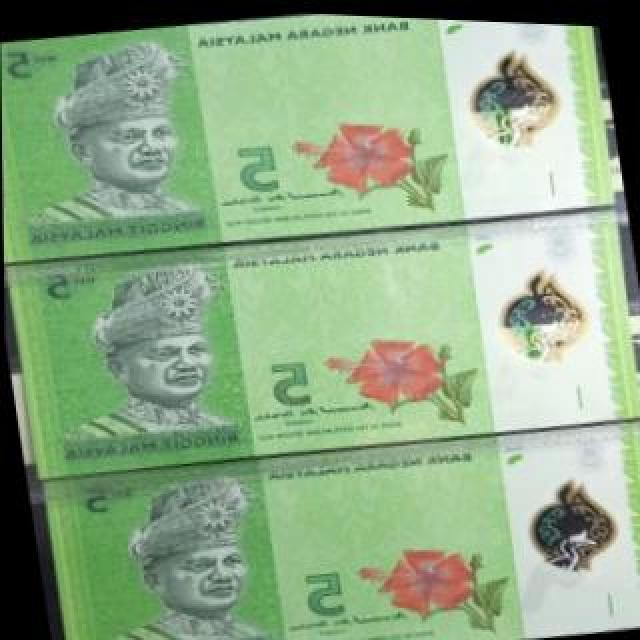5 Ringgit: (8, 184, 640, 502), (0, 0, 617, 285), (40, 394, 640, 640)
